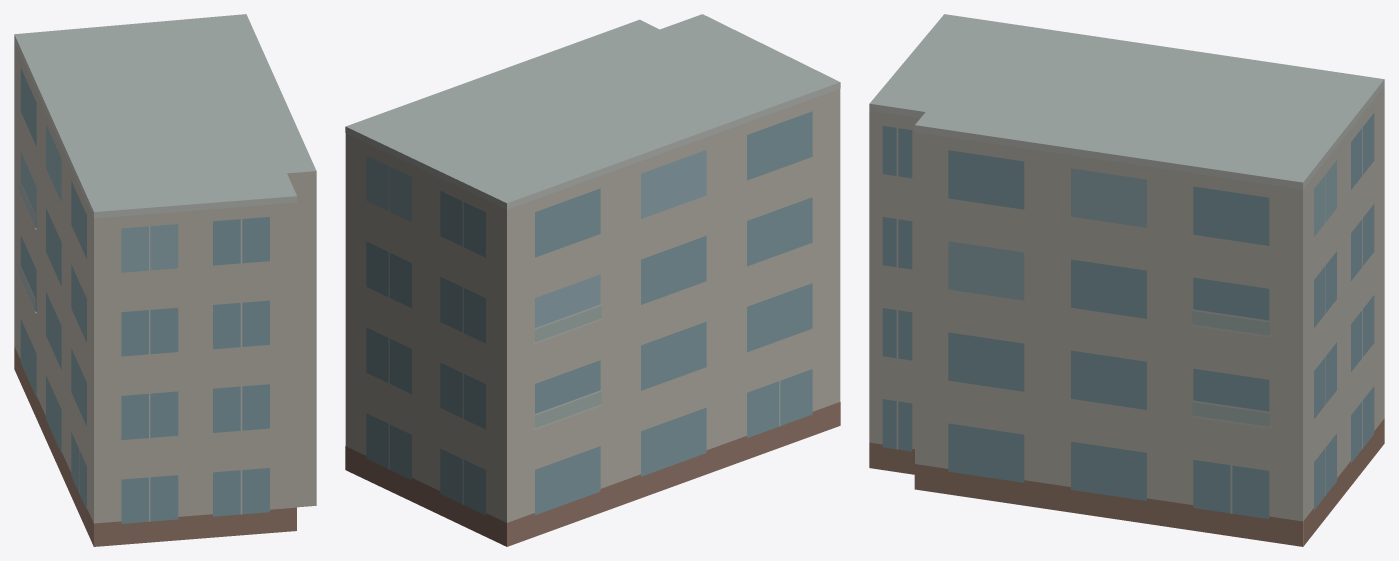
File: survey-upis-32657843.glb
3 renders of one model, left to right at view 1: azimuth 30°, elevation 25°; view 2: azimuth 150°, elevation 25°; view 3: azimuth 270°, elevation 25°, orthographic. The views are drawn at different scales.
Parts seen in each view (by area): view 1: survey-upis-32657843.tmp; view 2: survey-upis-32657843.tmp; view 3: survey-upis-32657843.tmp.
Part boxes in pixels (bbox=[...]): survey-upis-32657843.tmp: bbox=[14, 14, 316, 546]; survey-upis-32657843.tmp: bbox=[345, 14, 840, 546]; survey-upis-32657843.tmp: bbox=[869, 14, 1384, 546].
Size of the model in its own units: 12.81 by 12.9 by 16.54.
